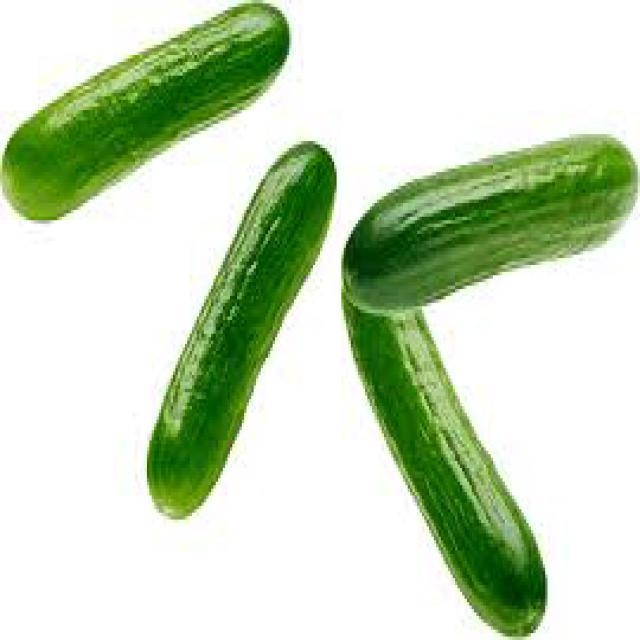cucumber: (144, 141, 340, 527), (343, 293, 554, 636), (2, 4, 294, 228), (341, 130, 640, 316)
